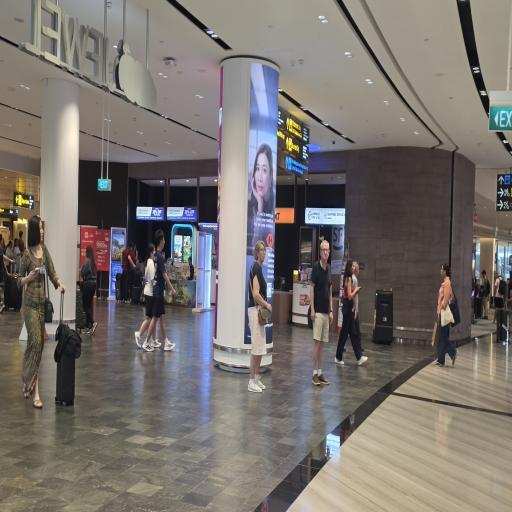person_left: (428, 252, 463, 372)
person_right: (242, 240, 276, 391), (302, 241, 332, 381), (152, 223, 172, 343), (141, 243, 157, 338), (340, 260, 354, 364), (352, 260, 365, 356)
person_with_luggage_left: (72, 234, 102, 334)
person_with_luggage_right: (20, 209, 76, 408), (118, 238, 140, 306)
